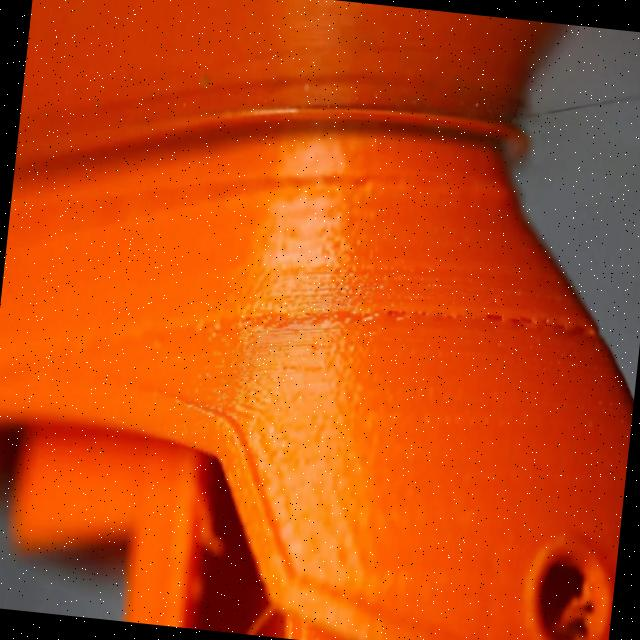cracks: (346, 268, 618, 378)
